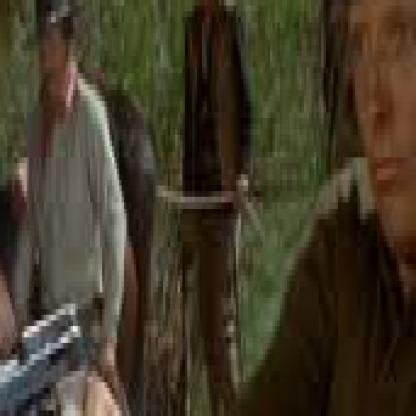gun: (280, 349, 331, 410)
